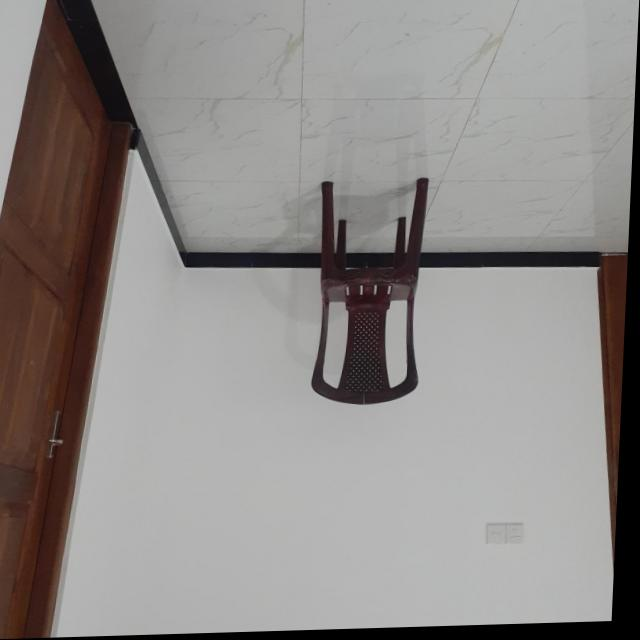Chair: (312, 178, 435, 411)
